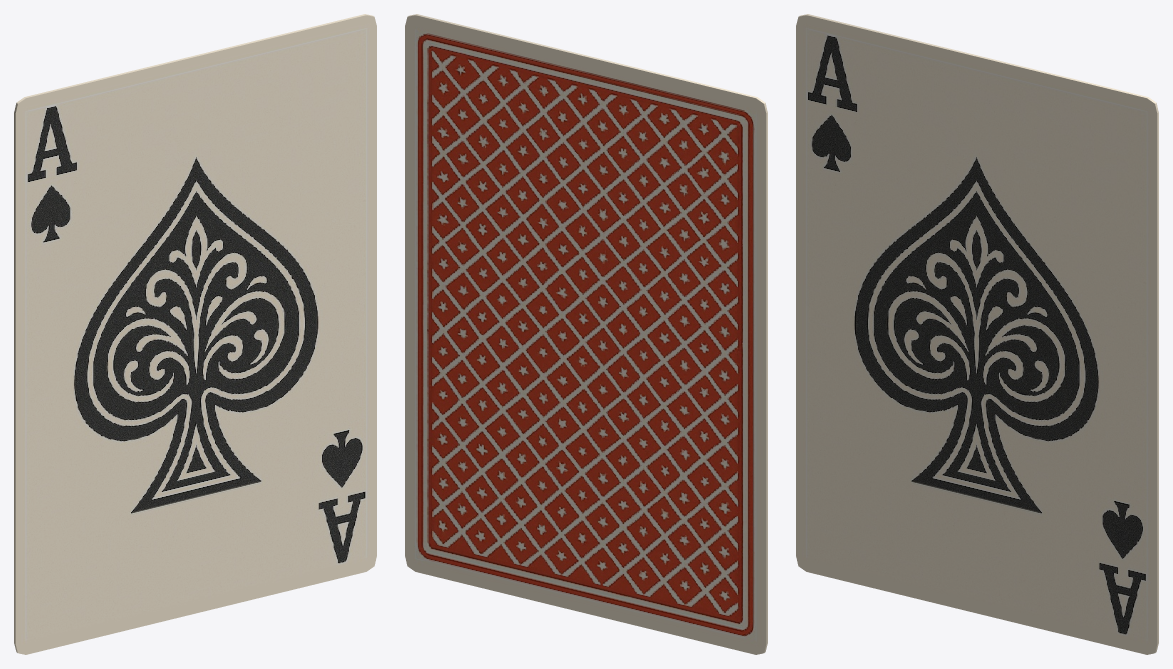
Rendered from Card_A.fbx.
3 renders of one model, left to right at view 1: azimuth 30°, elevation 25°; view 2: azimuth 150°, elevation 25°; view 3: azimuth 330°, elevation 25°, orthographic.
Parts seen in each view (by area): view 1: Card_A; view 2: Card_A; view 3: Card_A.
Boxes of the visible parts, x1,y1,x2,y2 form: Card_A: (14, 14, 376, 654); Card_A: (405, 14, 767, 654); Card_A: (796, 14, 1158, 654).
Bounding box in the file's own units: 52.34 × 77.06 × 0.3937.
